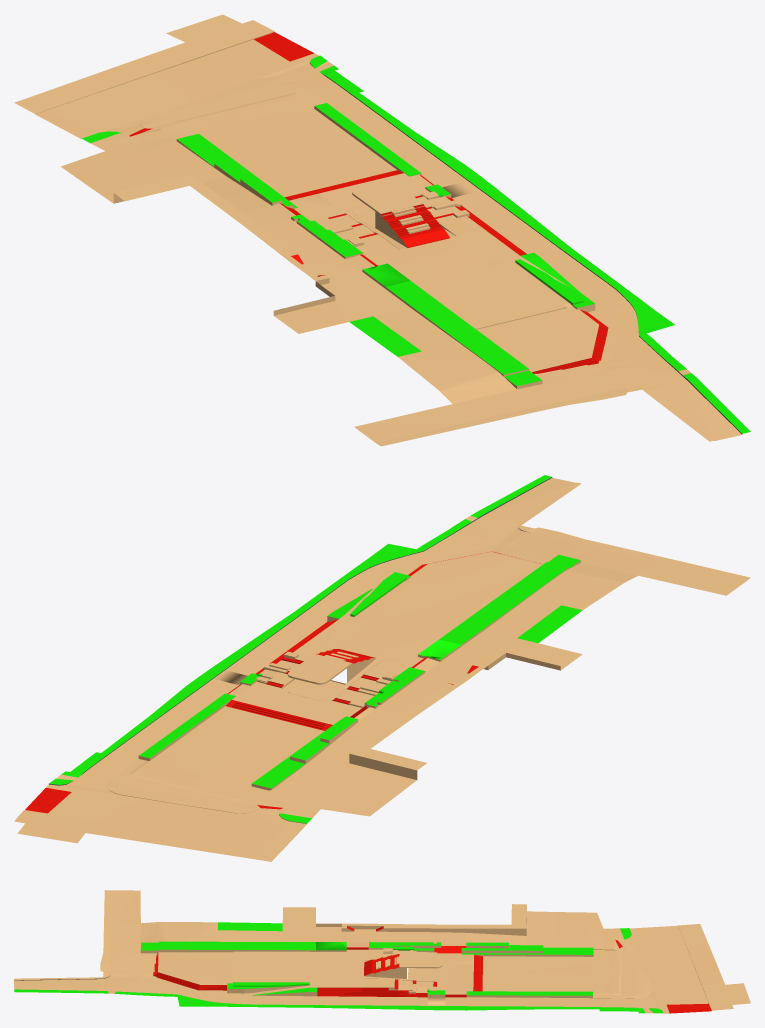
Rendered from bj_xindongli_ground.FBX.
3 views of the same model, one above another, from view 1: azimuth 30°, elevation 25°; view 2: azimuth 150°, elevation 25°; view 3: azimuth 270°, elevation 25° (orthographic). The views are drawn at different scales.
Parts seen in each view (by area): view 1: bj_xdl_ground_01, bj_xdl_ground_02; view 2: bj_xdl_ground_01, bj_xdl_ground_02; view 3: bj_xdl_ground_01, bj_xdl_ground_02.
Part boxes in pixels (x1,y1,x2,y2): bj_xdl_ground_01: (14,14,571,315); bj_xdl_ground_02: (274,248,750,446); bj_xdl_ground_01: (14,612,560,861); bj_xdl_ground_02: (293,475,750,670); bj_xdl_ground_01: (309,904,750,1013); bj_xdl_ground_02: (14,890,317,1007).
Bounding box in the file's own units: 72.38 × 4.59 × 193.
